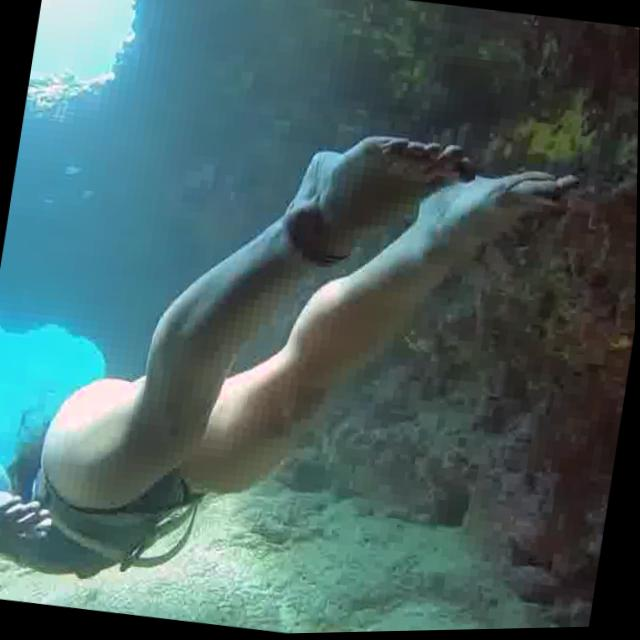human: (0, 62, 598, 640)
